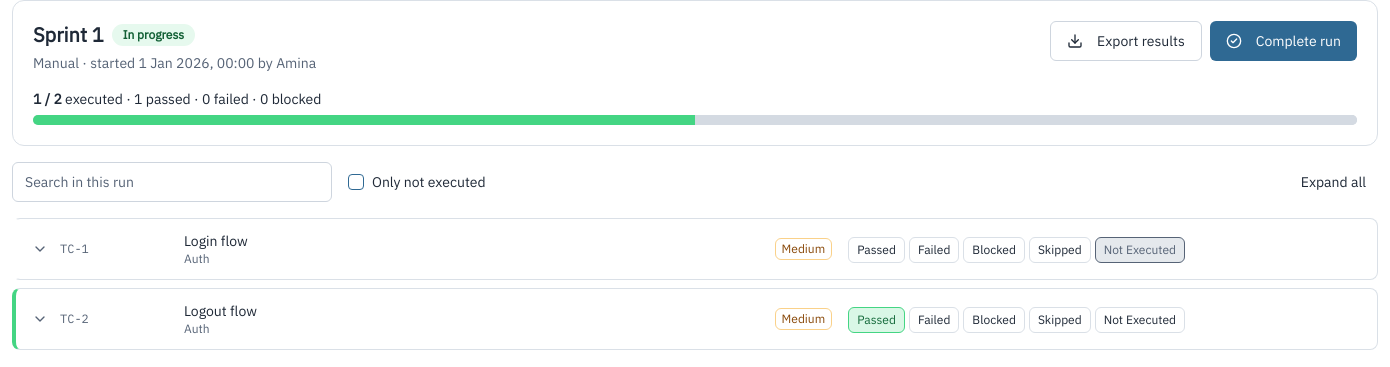
Test: RunExecution › keeps a row visible after marking it Passed while "Only not executed" is on
The width and height of the screenshot is (1390, 367).
Click the checkbox named "Only not executed": (356, 182) [348,174,364,190]
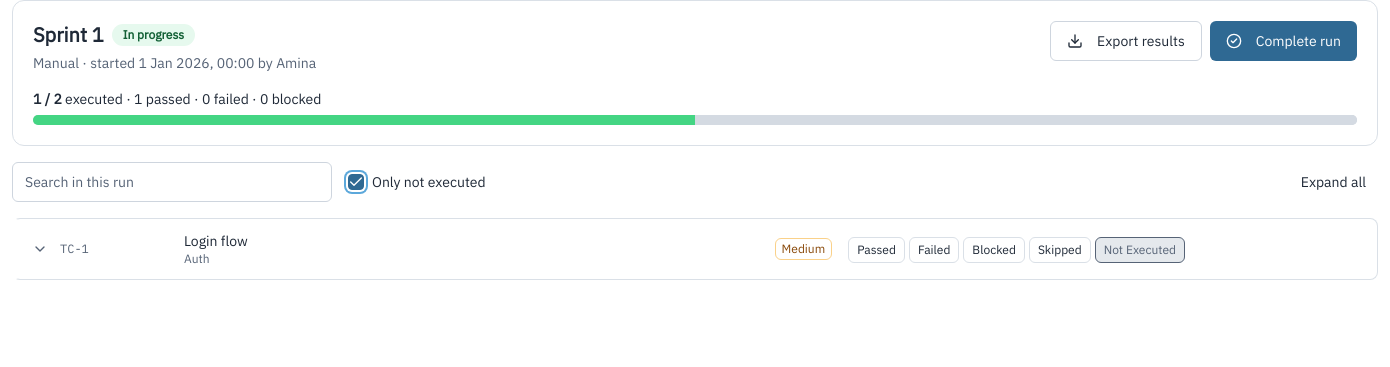
Click the radio button labelled "Passed": (877, 249) [848,236,905,262]
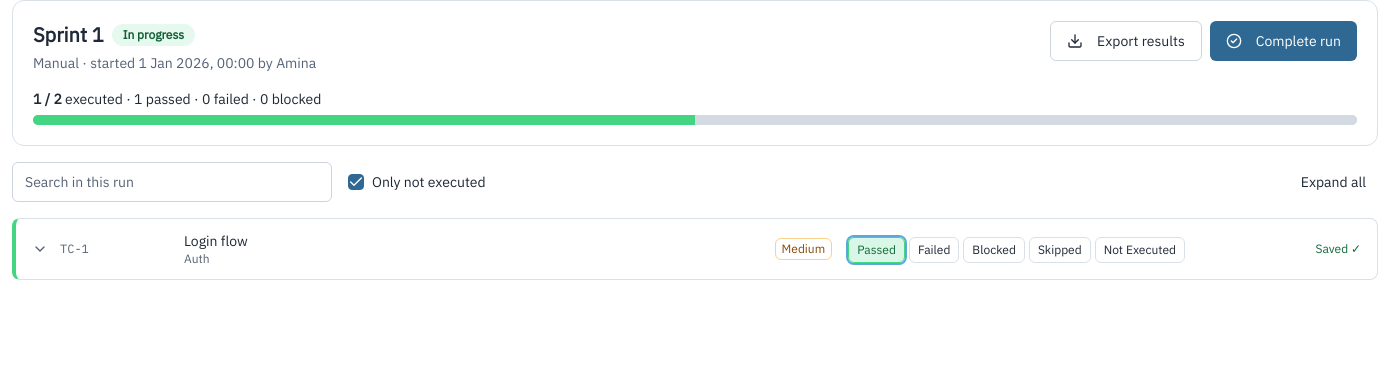
Check: the text "Saved ✓" is shown, box [1316,241,1361,257]
